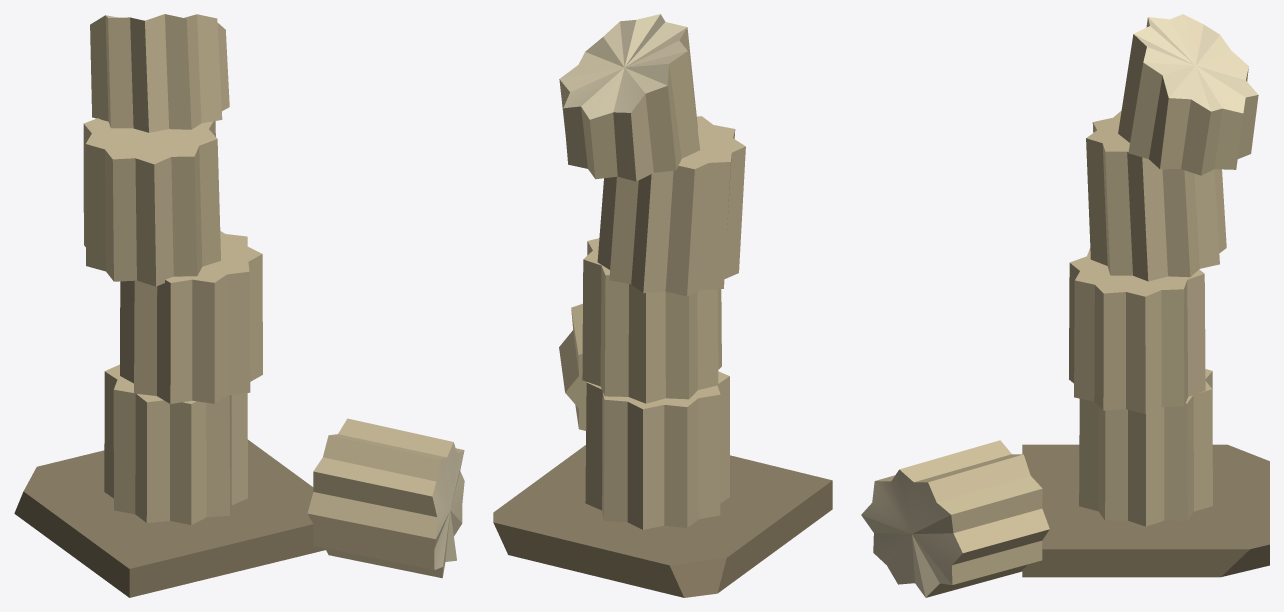
Rendered from column-2.glb.
The picture shows the model from 3 angles, left to right: view 1: azimuth 30°, elevation 25°; view 2: azimuth 150°, elevation 25°; view 3: azimuth 270°, elevation 25°; orthographic projection. The views are drawn at different scales.
Visible parts, largest first — view 1: column-2; view 2: column-2; view 3: column-2.
Boxes of the visible parts, left/top/right/bottom form: column-2: left=14, top=14, right=464, bottom=597; column-2: left=493, top=14, right=832, bottom=597; column-2: left=861, top=14, right=1269, bottom=597.
Size of the model in its own units: 1.42 by 2.28 by 1.7.
